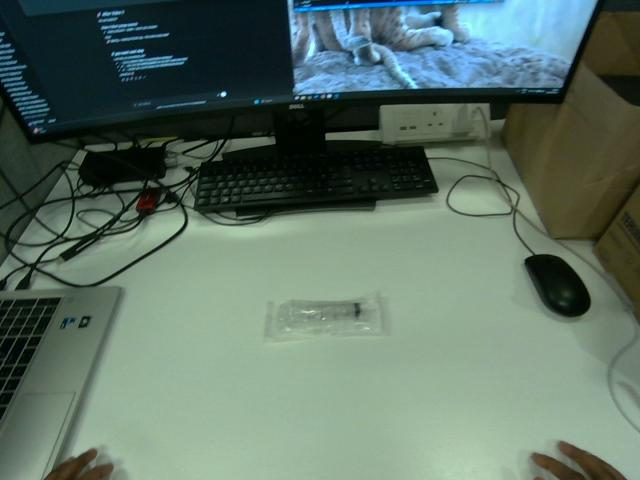syringe: (265, 293, 382, 340)
